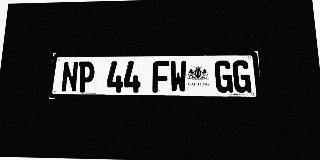4: (107, 61, 124, 93), (124, 61, 141, 93)
F: (152, 61, 169, 93)
G: (232, 60, 252, 93), (215, 60, 233, 93)
N: (61, 61, 79, 92)
P: (77, 61, 95, 92)
W: (170, 61, 187, 93)
